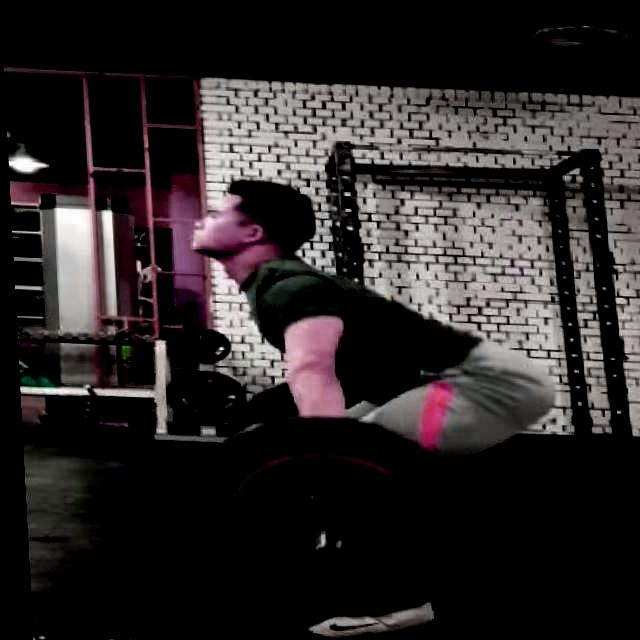barbell: (167, 404, 487, 620)
